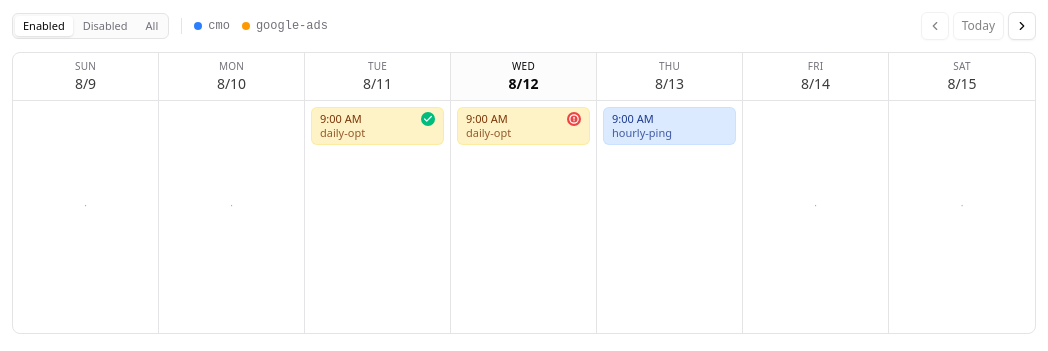
Test: CronCalendar — filter chips › switching to 'All' shows enabled and disabled chips together
This screenshot has width=1048, height=351.
Click the tab "All": {"x": 152, "y": 26} [138,16,166,36]
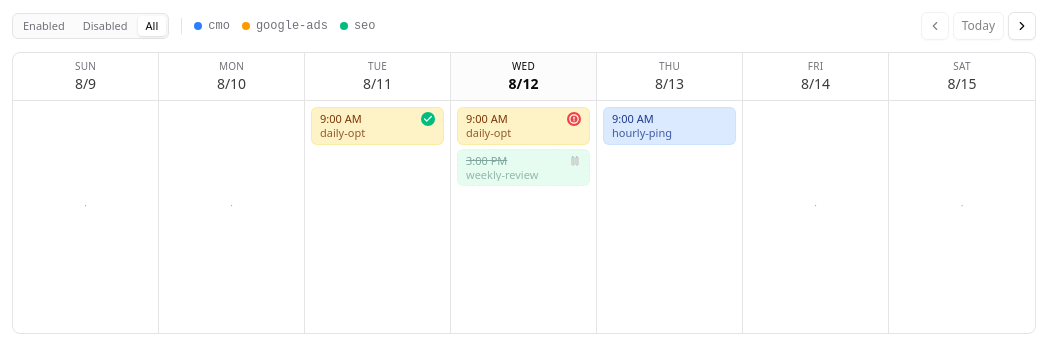
Expected: the text "daily-opt" below "8/11" is shown, [320,125,365,140]
Now the text "weekly-review" is shown, box [466,166,538,182]
